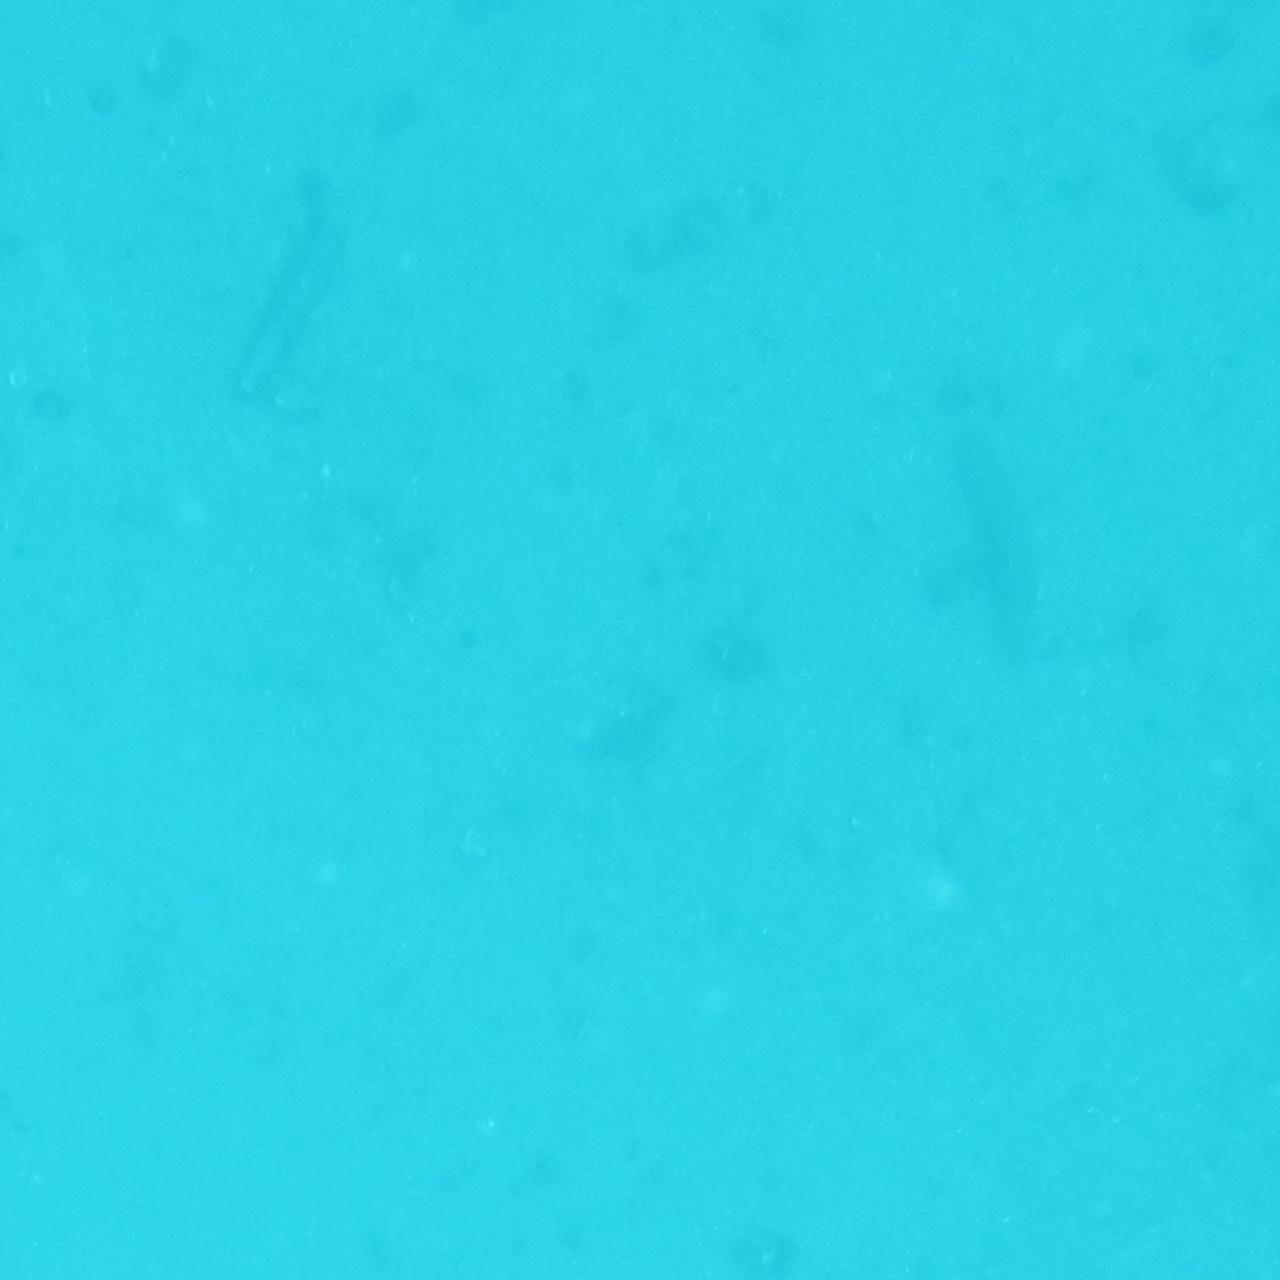Holothuria tubulosa: (926, 369, 1058, 724), (218, 161, 359, 436)
